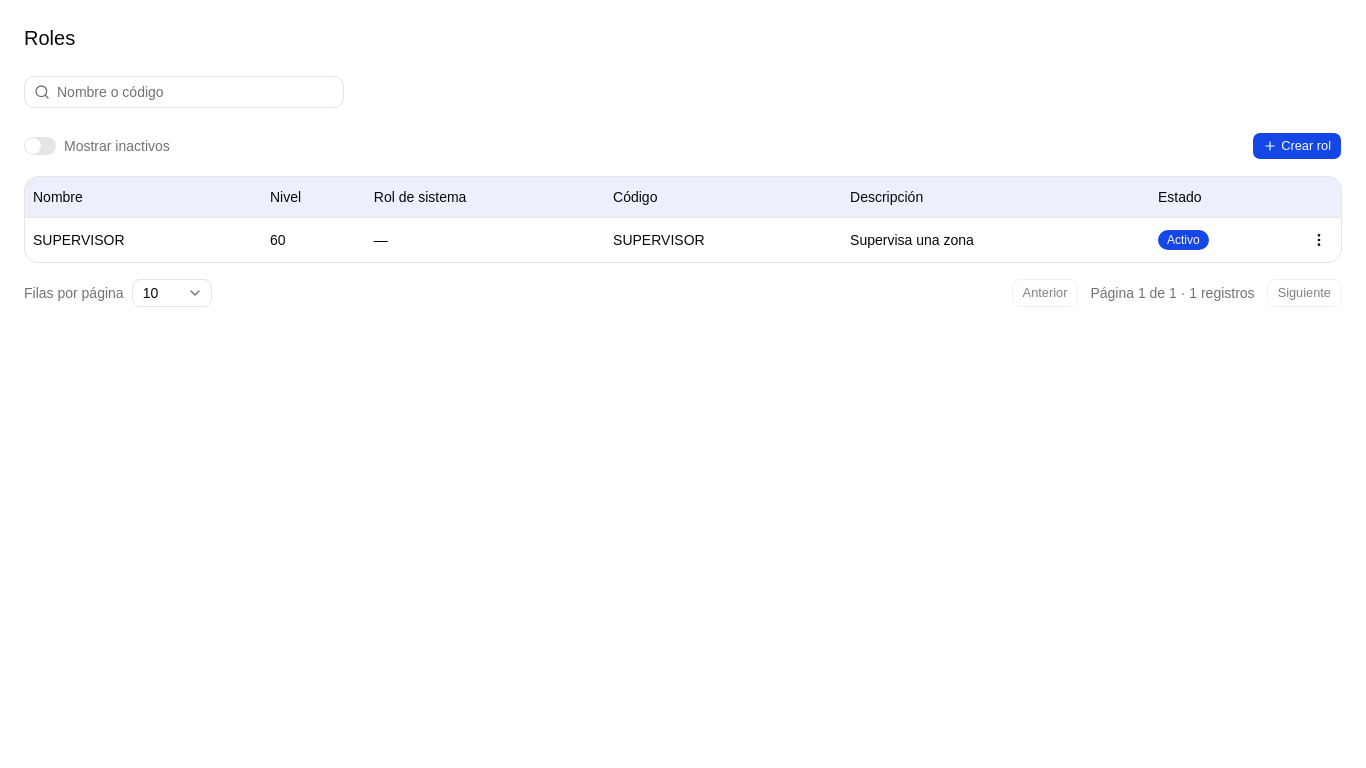
Test: AppRoleListPage — la retirada informada › «ver quiénes» abre el Sheet de portadores
The image size is (1366, 768).
Click the button named "Acciones de la fila" at (1319, 240), box left=1305, top=226, right=1333, bottom=254
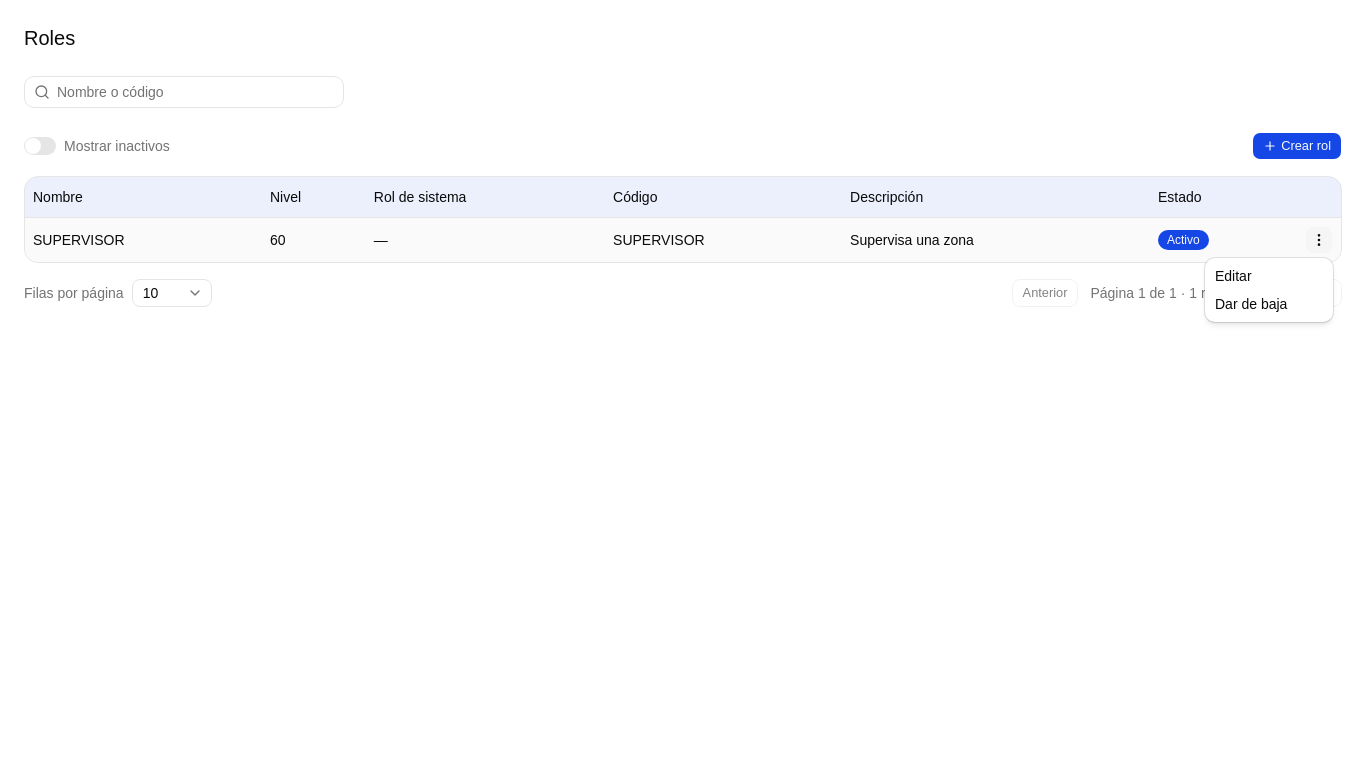
Click the menu item "Dar de baja" at (1251, 304), box left=1215, top=296, right=1287, bottom=312
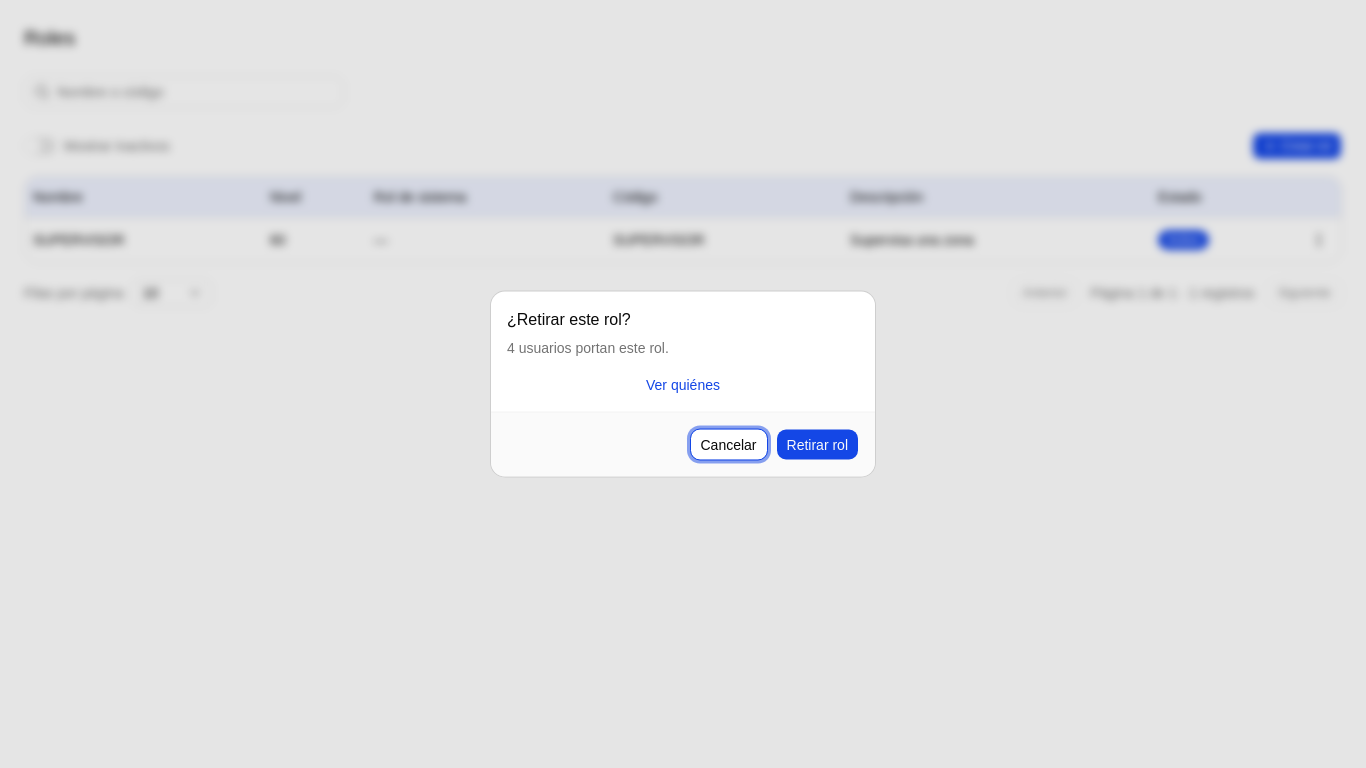
Click the button "Ver quiénes" at (683, 384), box left=507, top=374, right=859, bottom=396
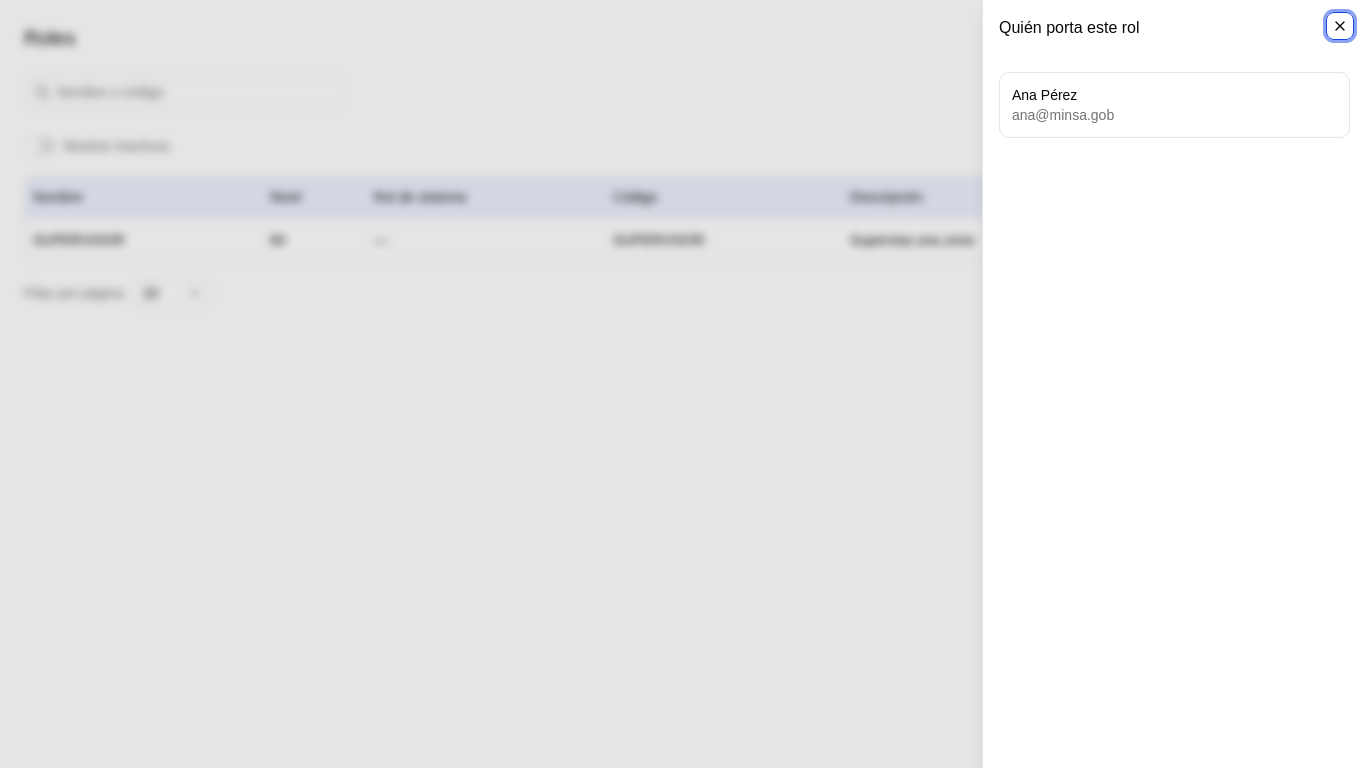
Result: the text "Ana Pérez" is shown at left=1012, top=87, right=1077, bottom=103
